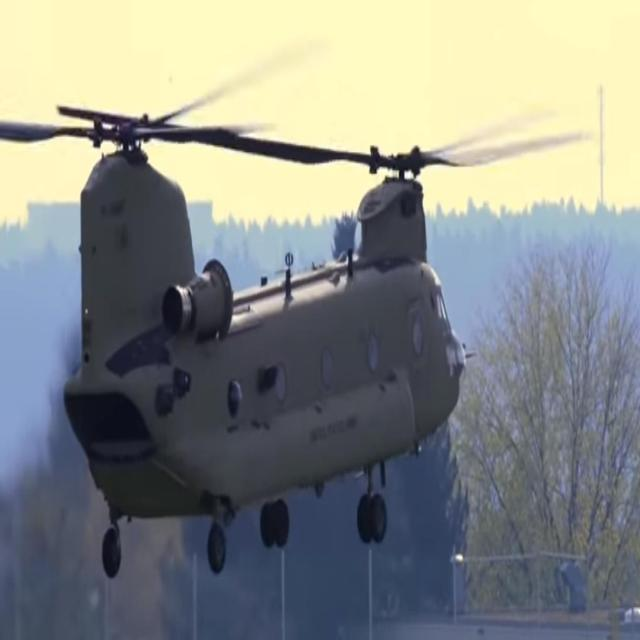Helicopter: (52, 108, 482, 602)
